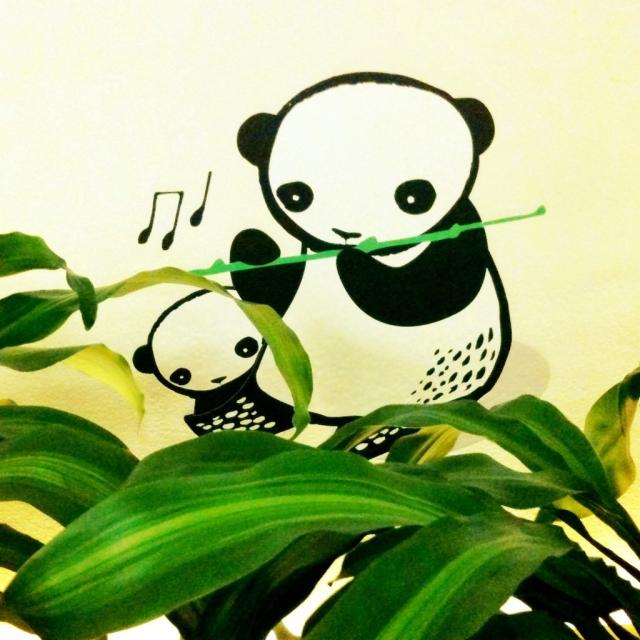panda: (228, 72, 517, 455), (128, 282, 300, 442)
